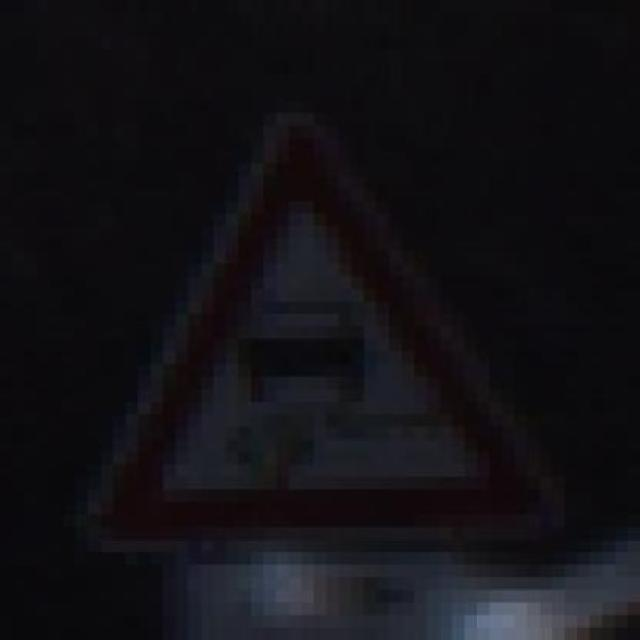Slippery Road Ahead: (48, 95, 564, 560)
